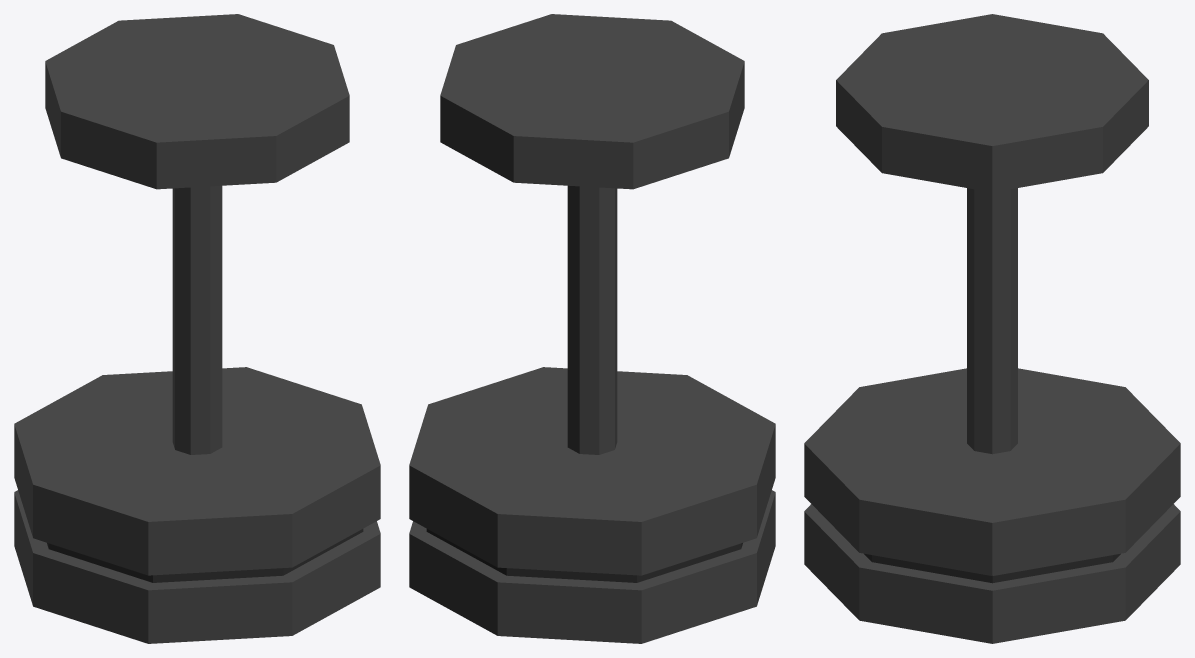
The model's file is Light_01.fbx.
3 renders of one model, left to right at view 1: azimuth 30°, elevation 25°; view 2: azimuth 150°, elevation 25°; view 3: azimuth 270°, elevation 25°, orthographic.
Parts seen in each view (by area): view 1: Light_01; view 2: Light_01; view 3: Light_01.
Boxes of the visible parts, box(x1,y1,x2,y2) form: Light_01: box(14, 14, 380, 643); Light_01: box(409, 14, 775, 643); Light_01: box(804, 14, 1180, 643).
Bounding box in the file's own units: 21.89 × 31.08 × 21.89.
